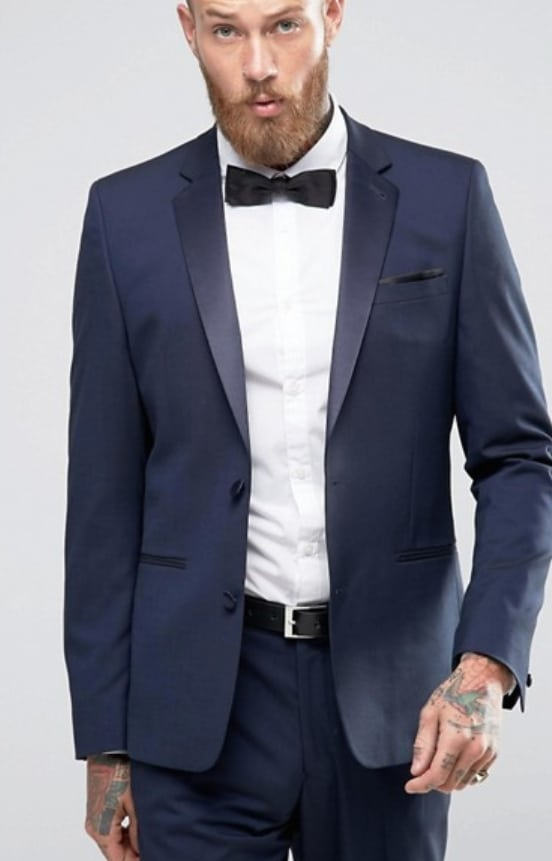F_M_suit jacket: (55, 122, 552, 773)
F_belt: (237, 590, 342, 660)
F_dress pants: (147, 585, 454, 861)
F_shirt: (219, 119, 361, 601)
F_tie: (226, 158, 342, 211)
